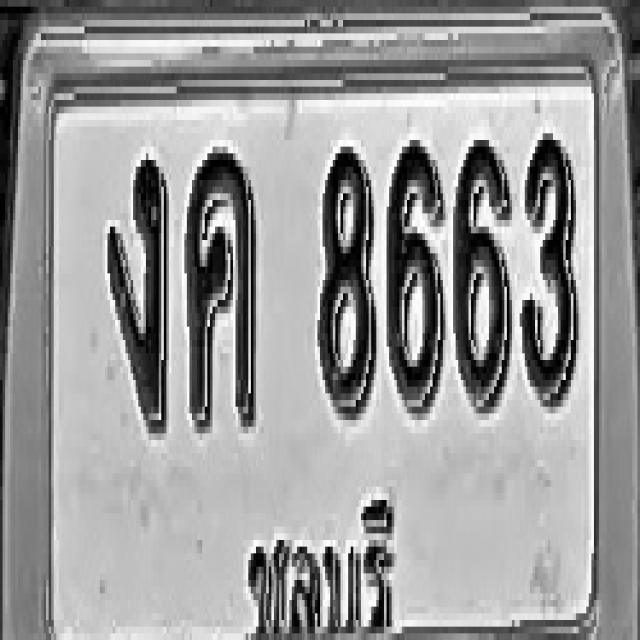13KhorKhwai: (186, 147, 257, 433)
16NgorNgu: (106, 154, 168, 434)
3: (521, 133, 577, 407)
6: (386, 140, 443, 413), (454, 137, 511, 410)
8: (318, 143, 377, 417)
Chonburi: (243, 493, 394, 640)
